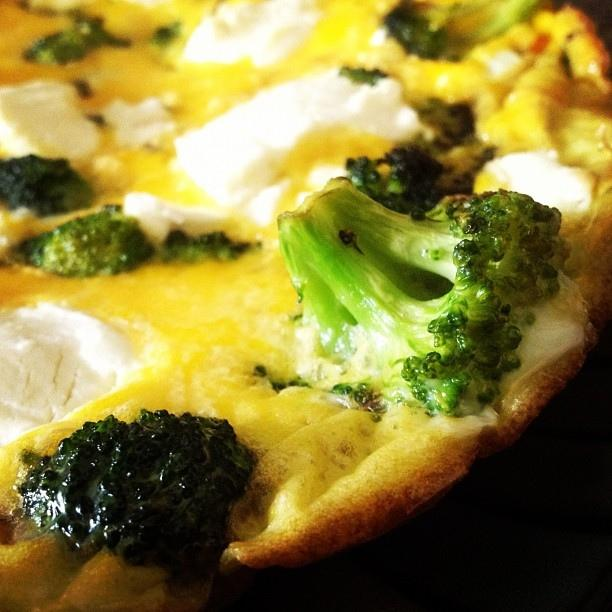broccoli: (276, 176, 570, 420), (15, 408, 255, 584), (0, 204, 263, 280), (381, 0, 538, 62), (346, 142, 473, 215), (23, 7, 133, 65), (1, 154, 92, 219), (337, 67, 388, 86)
